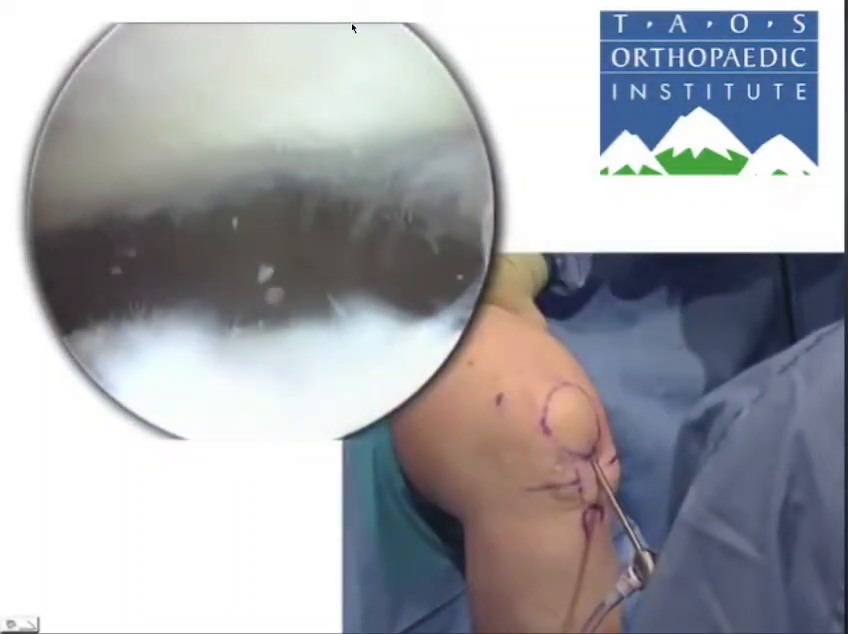arthroscope: (480, 297, 848, 634), (47, 0, 424, 212)
probe: (64, 291, 424, 447), (424, 288, 536, 414)
